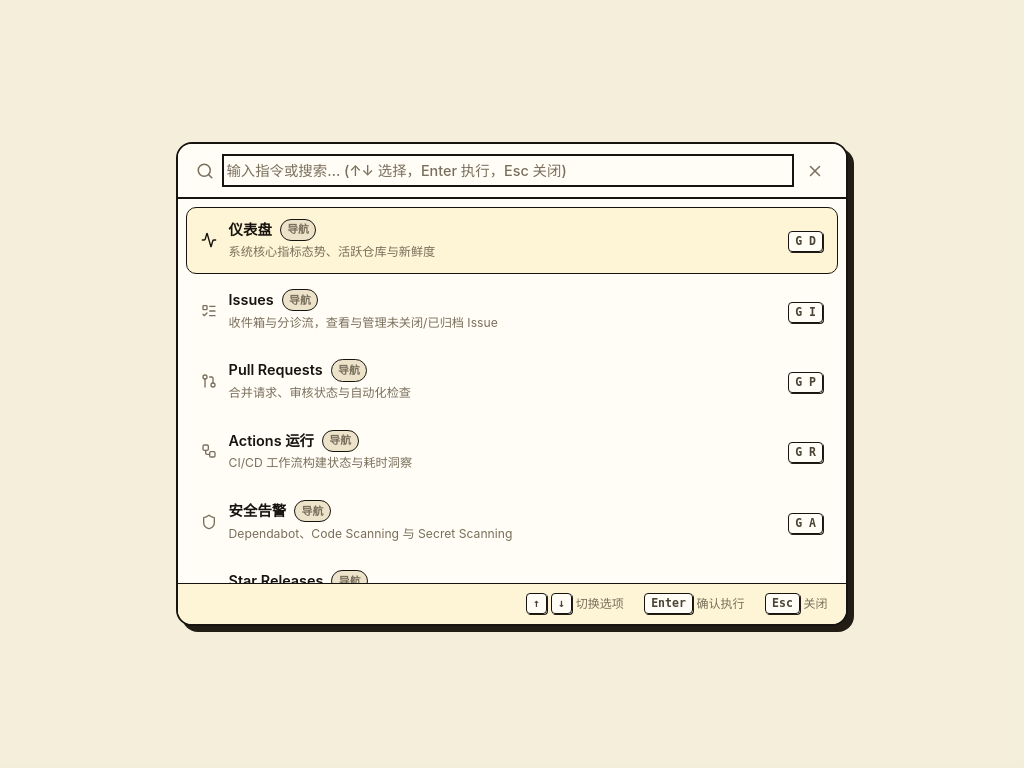
CommandPalette 全局指令面板 › 支持根据关键词筛选指令
The width and height of the screenshot is (1024, 768).
Type "安全" into the field with placeholder "输入指令或搜索… (↑↓ 选择，Enter 执行，Esc 关闭)".
click(508, 171); type("安全")  # box [226,158,790,183]
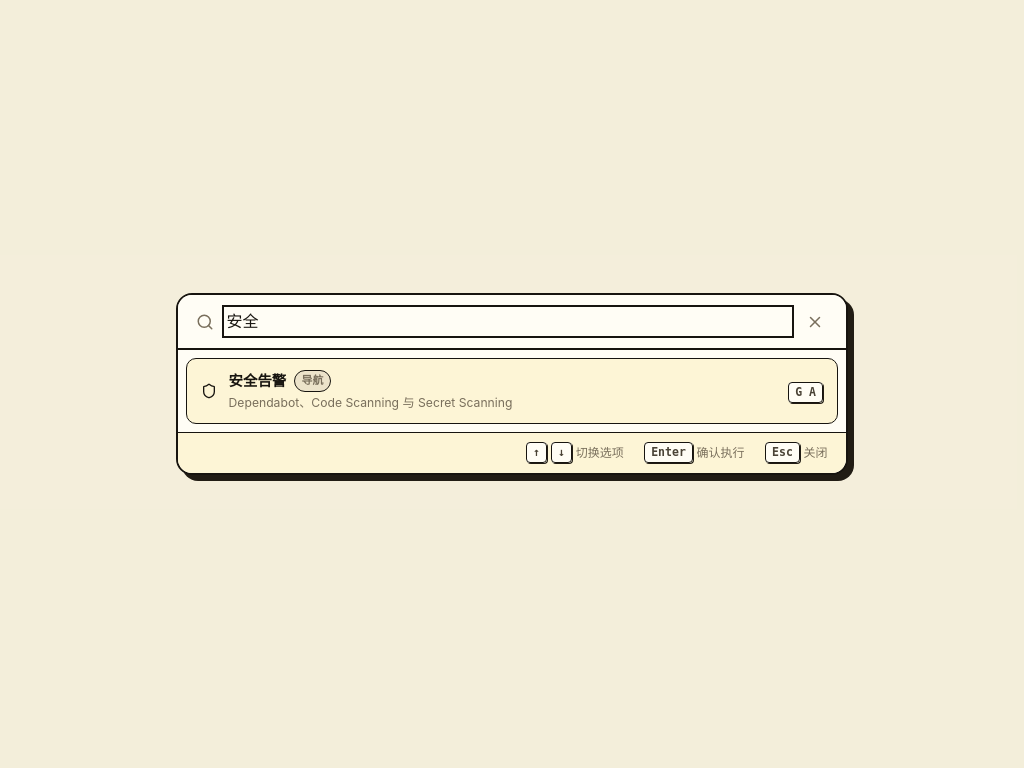
Expected: the text "安全告警" is shown, [229,372,286,388]
Expected: the button "Pull Requests" is gone
